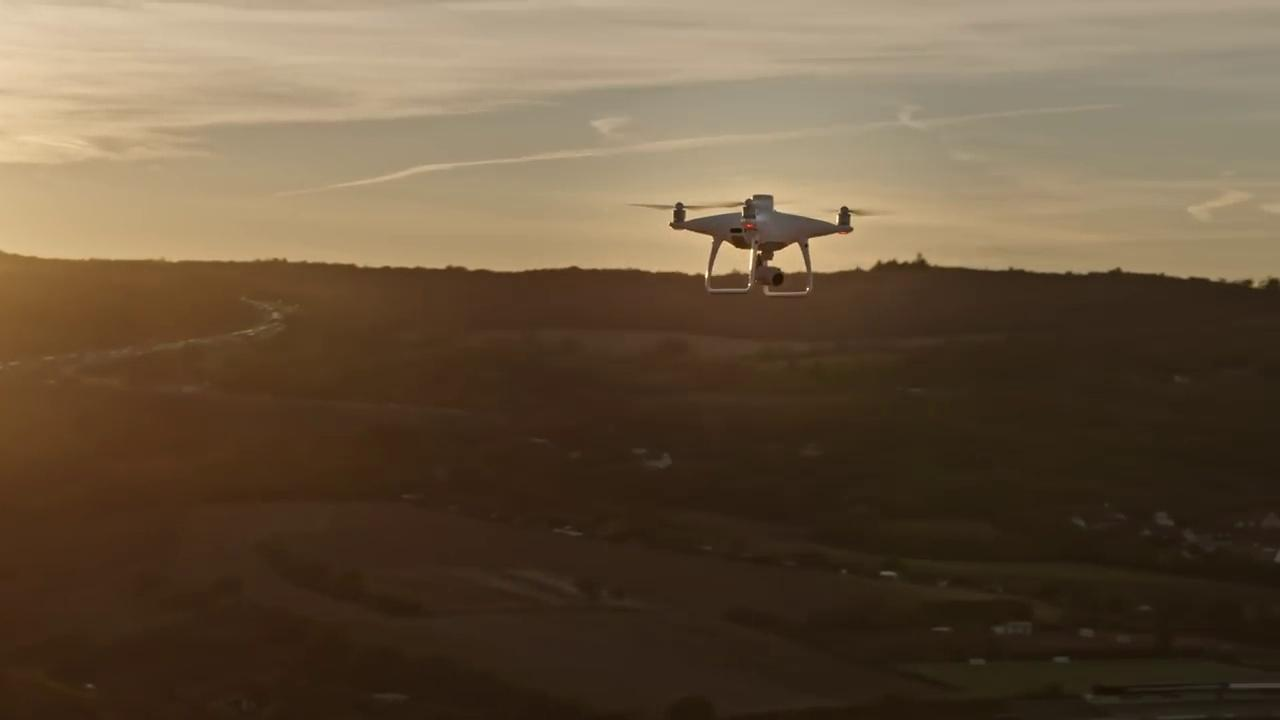drone: (626, 191, 892, 299)
